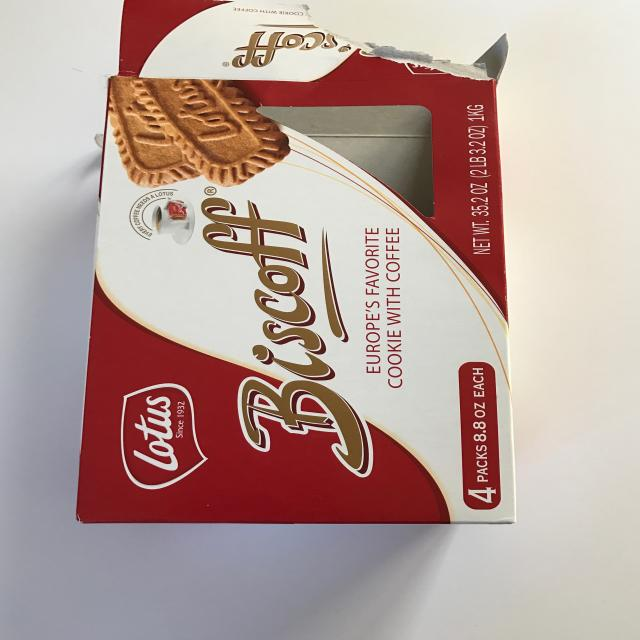paper: (68, 0, 544, 537)
